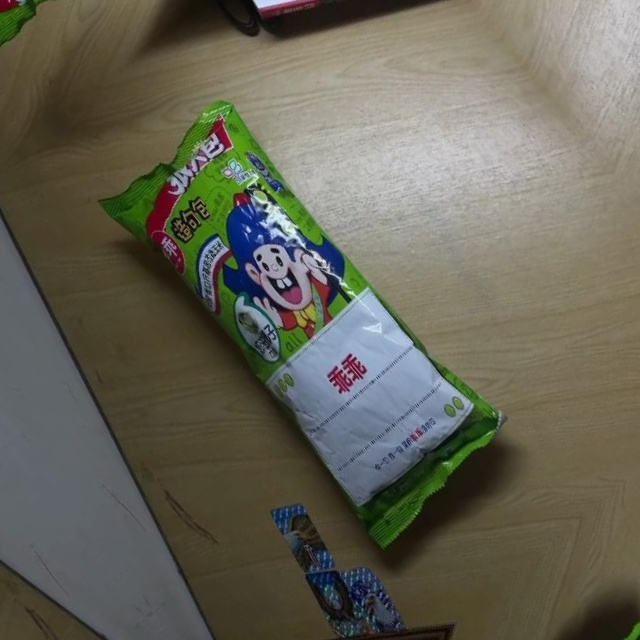Good-Luck: (89, 84, 522, 550)
